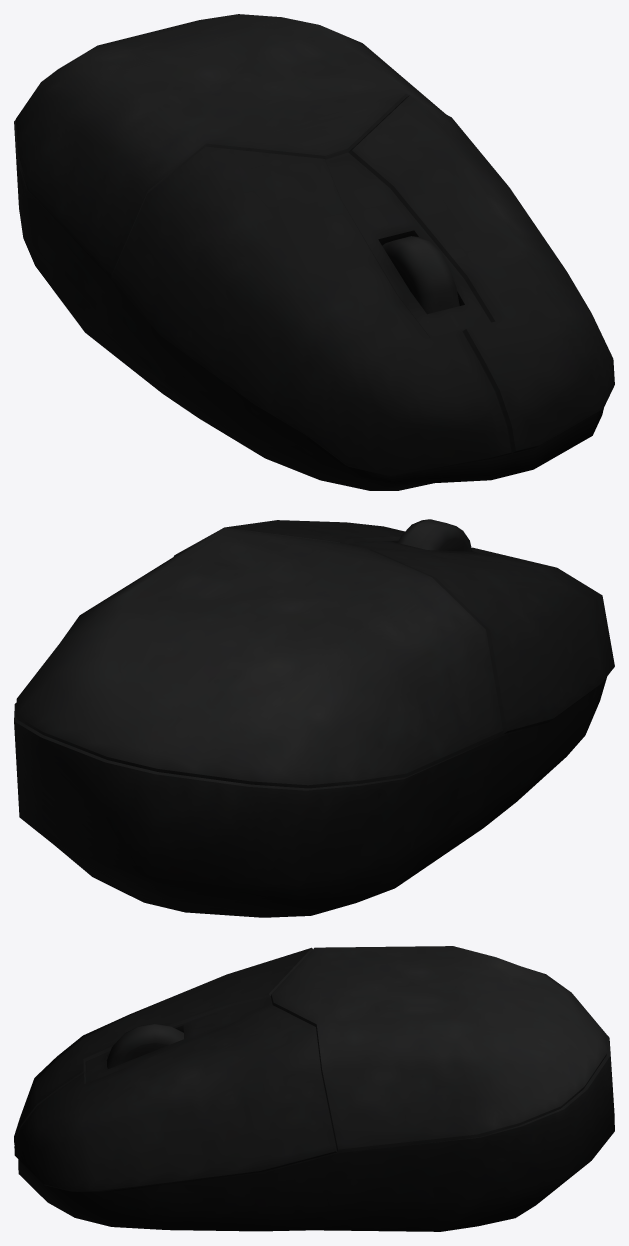
Rendered from Mouse.fbx.
3 views of the same model, one above another, from view 1: azimuth 30°, elevation 25°; view 2: azimuth 150°, elevation 25°; view 3: azimuth 270°, elevation 25° (orthographic). The views are drawn at different scales.
Parts seen in each view (by area): view 1: Mouse; view 2: Mouse; view 3: Mouse.
Boxes of the visible parts, x1,y1,x2,y2 form: Mouse: (14, 14, 614, 490); Mouse: (14, 519, 614, 917); Mouse: (14, 946, 614, 1231).
Bounding box in the file's own units: 6.04 × 3.72 × 10.8.
